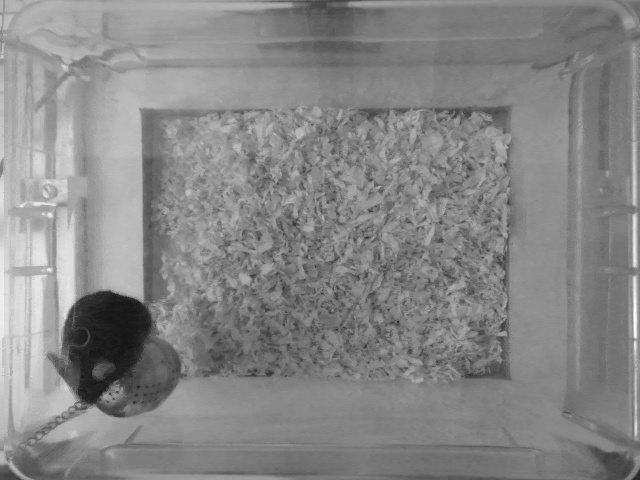mice: (62, 285, 151, 409)
